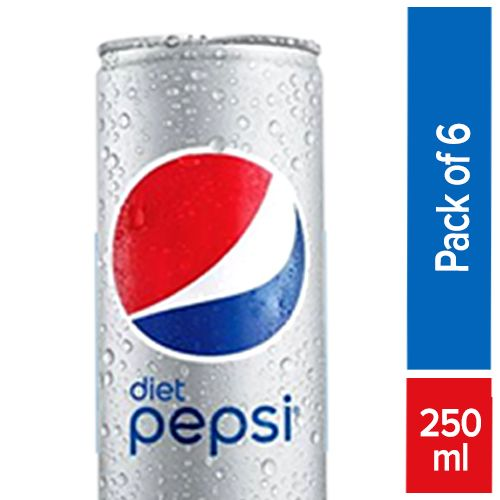pepsi: (106, 146, 307, 356), (106, 146, 302, 356)
